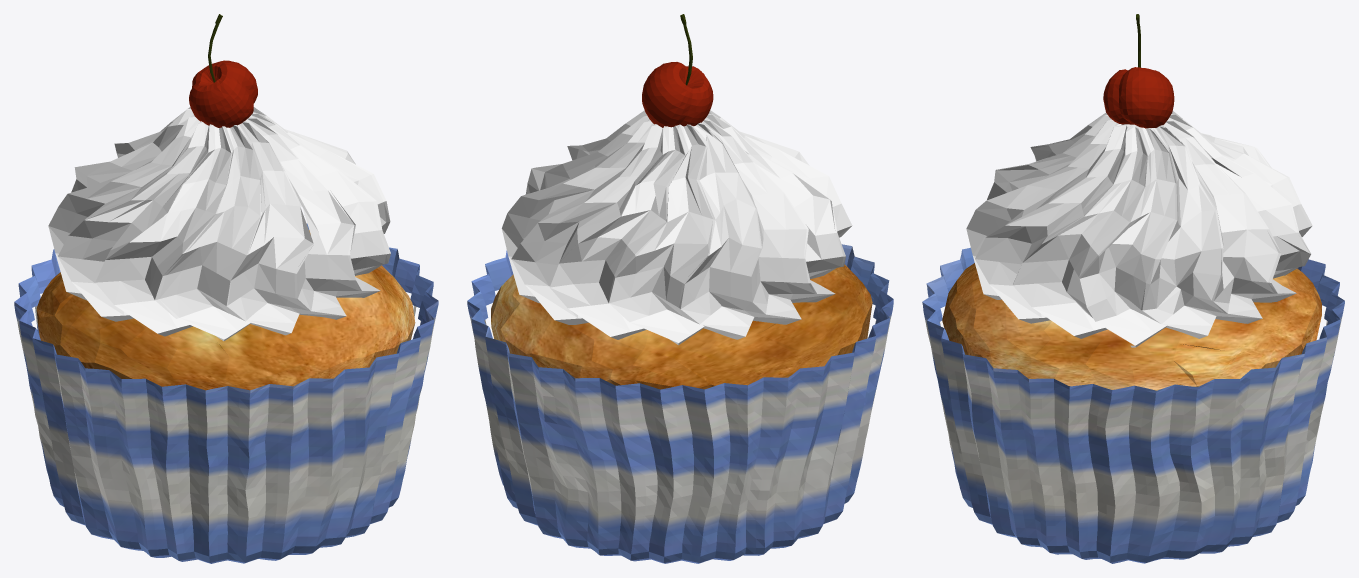
File: sweethome3d-blendswap-cc-0-cup-cake-141.glb
3 views of the same model, side by side, from view 1: azimuth 30°, elevation 25°; view 2: azimuth 150°, elevation 25°; view 3: azimuth 270°, elevation 25° (orthographic).
Parts seen in each view (by area): view 1: Circle.001, Circle.002_Circle.003, Sphere, Sphere.001; view 2: Circle.001, Circle.002_Circle.003, Sphere, Sphere.001; view 3: Circle.001, Circle.002_Circle.003, Sphere, Sphere.001.
Boxes of the visible parts, left/top/right/bottom form: Circle.001: left=14, top=223, right=438, bottom=563; Circle.002_Circle.003: left=48, top=107, right=390, bottom=341; Sphere: left=36, top=230, right=415, bottom=390; Sphere.001: left=189, top=60, right=257, bottom=127; Circle.001: left=467, top=244, right=893, bottom=563; Circle.002_Circle.003: left=501, top=110, right=852, bottom=345; Sphere: left=491, top=264, right=872, bottom=389; Sphere.001: left=642, top=62, right=713, bottom=127; Circle.001: left=922, top=247, right=1344, bottom=563; Circle.002_Circle.003: left=966, top=111, right=1312, bottom=347; Sphere: left=942, top=263, right=1321, bottom=390; Sphere.001: left=1103, top=67, right=1174, bottom=128.
Bounding box in the file's own units: 5.9 × 7.53 × 5.93.
Materials: 5 (2 with a texture image).
